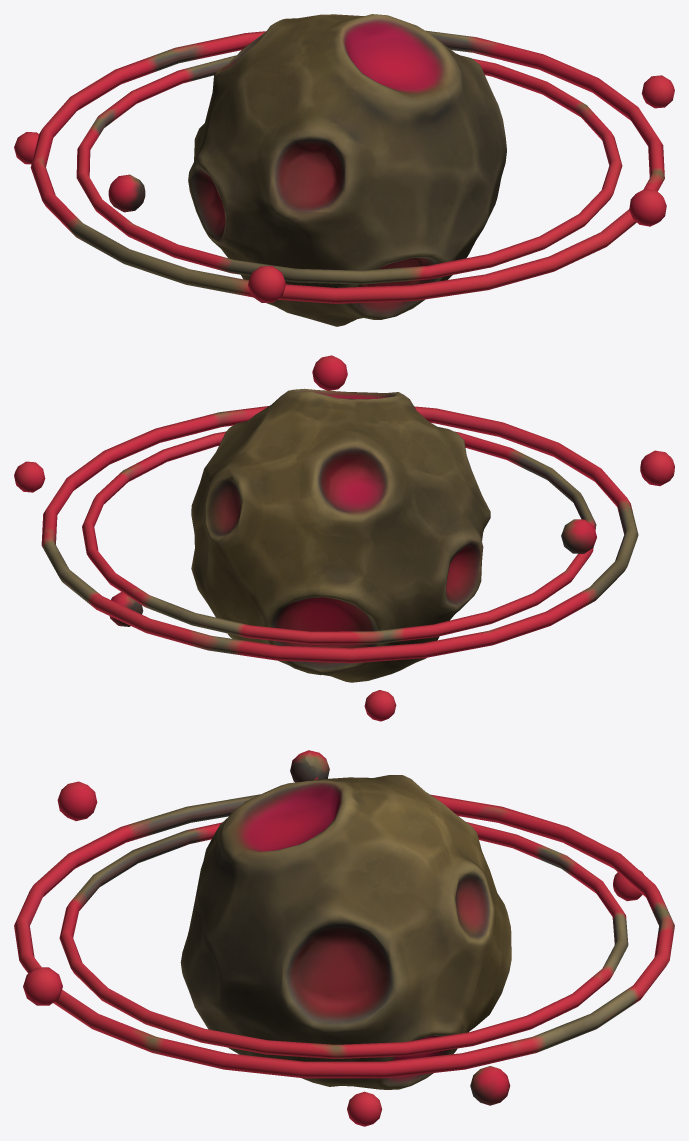
The model's file is Planet_RedBreaker.fbx.
3 renders of one model, top to bottom at view 1: azimuth 30°, elevation 25°; view 2: azimuth 150°, elevation 25°; view 3: azimuth 270°, elevation 25°, orthographic. The views are drawn at different scales.
Parts seen in each view (by area): view 1: Planet_RedBreaker, Planet_RedBreaker_Parts; view 2: Planet_RedBreaker, Planet_RedBreaker_Parts; view 3: Planet_RedBreaker.
Part boxes in pixels (<box>): Planet_RedBreaker: <box>30,14,674,326</box>; Planet_RedBreaker_Parts: <box>14,132,38,164</box>; Planet_RedBreaker: <box>14,355,674,682</box>; Planet_RedBreaker_Parts: <box>364,690,396,721</box>; Planet_RedBreaker: <box>14,750,674,1126</box>.
Size of the model in its own units: 453 by 207 by 409.
